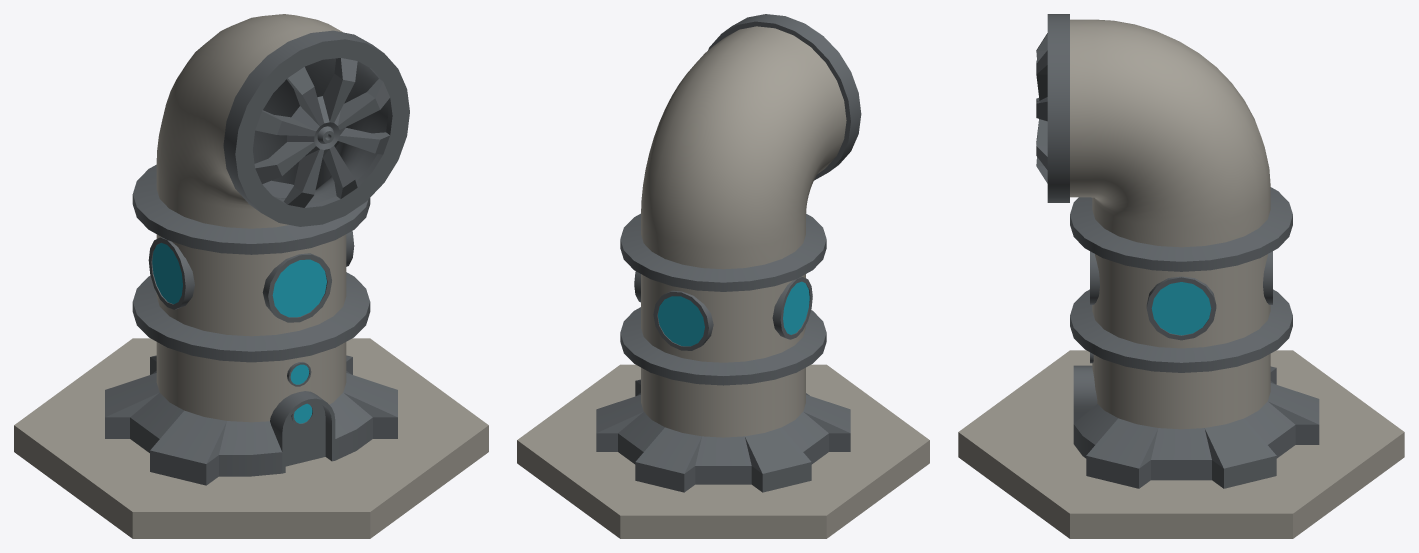
Rendered from pipeHouse.glb.
The picture shows the model from 3 angles, left to right: view 1: azimuth 30°, elevation 25°; view 2: azimuth 150°, elevation 25°; view 3: azimuth 270°, elevation 25°; orthographic projection. The views are drawn at different scales.
Parts seen in each view (by area): view 1: HexagonBase; view 2: HexagonBase; view 3: HexagonBase.
Part boxes in pixels (bbox=[...]): HexagonBase: bbox=[14, 14, 488, 538]; HexagonBase: bbox=[517, 14, 929, 538]; HexagonBase: bbox=[958, 14, 1404, 538].
Size of the model in its own units: 13.86 by 17.2 by 16.
